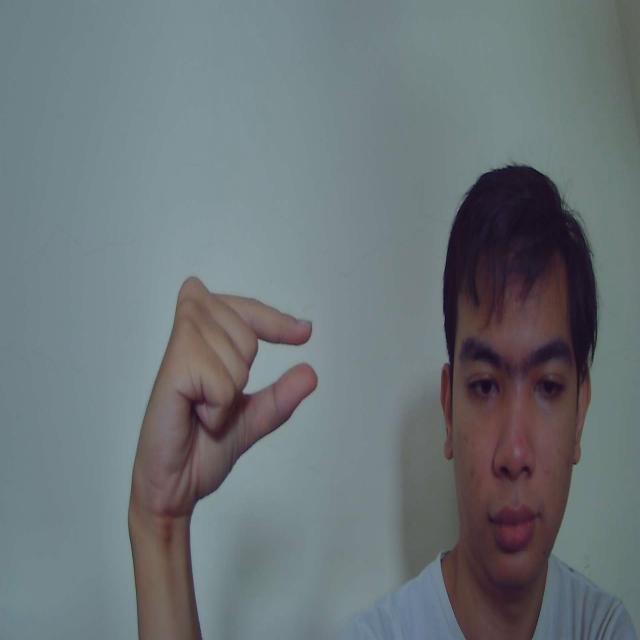G: (127, 272, 321, 509)
